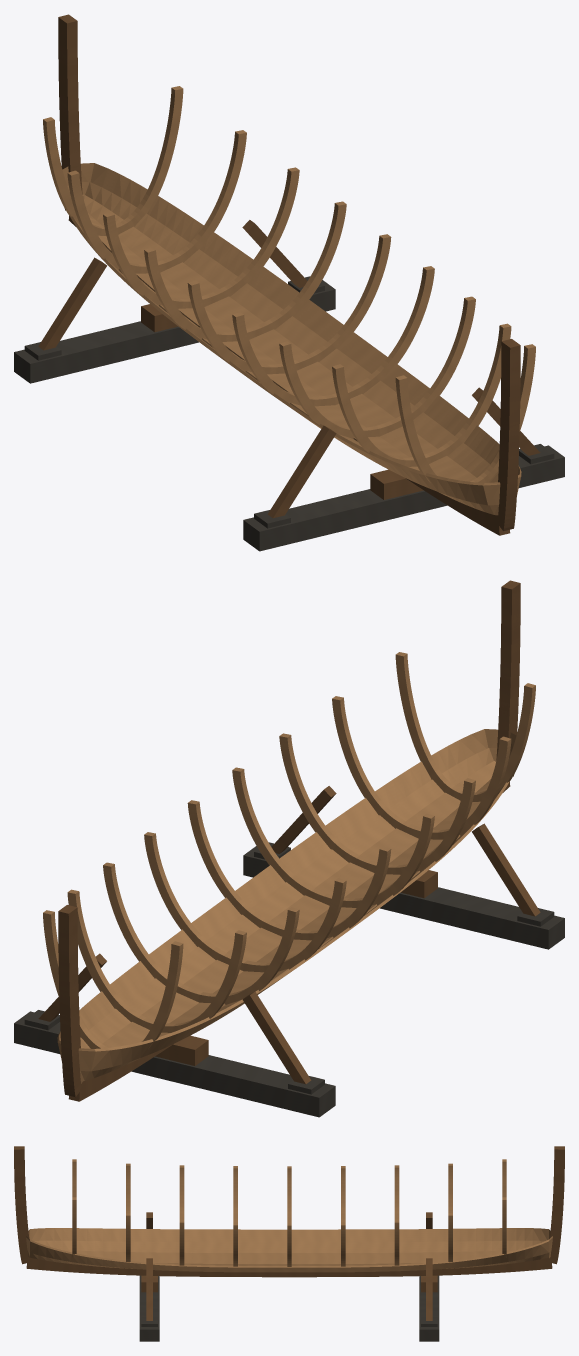
Rendered from stage_1.glb.
3 views of the same model, one above another, from view 1: azimuth 30°, elevation 25°; view 2: azimuth 150°, elevation 25°; view 3: azimuth 270°, elevation 25° (orthographic). The views are drawn at different scales.
Visible parts, largest first — view 1: hull_strake_02_starboard_0, hull_strake_01_starboard_0, hull_strake_00_starboard_0, trestle_1_foot, trestle_0_foot, spine_bow_stem, hull_strake_02_port_0, frame_05, frame_02, frame_03, frame_04, frame_06 (+12 smaller); view 2: hull_strake_02_starboard_0, hull_strake_01_starboard_0, hull_strake_00_starboard_0, trestle_0_foot, trestle_1_foot, spine_stern_stem, hull_strake_02_port_0, frame_03, frame_05, frame_06, frame_04, frame_02 (+12 smaller); view 3: hull_strake_02_port_0, hull_strake_01_port_0, hull_strake_02_starboard_0, hull_strake_00_port_0, spine_keel, spine_bow_stem, spine_stern_stem, trestle_0_foot, trestle_1_foot, frame_02, frame_06, hull_strake_01_starboard_0 (+10 smaller).
Boxes of the visible parts, box(x1,y1,x2,y2) form: hull_strake_02_starboard_0: box(81, 163, 521, 494); hull_strake_01_starboard_0: box(81, 182, 498, 482); hull_strake_00_starboard_0: box(82, 194, 476, 481); trestle_1_foot: box(243, 445, 564, 551); trestle_0_foot: box(14, 280, 335, 383); spine_bow_stem: box(495, 339, 520, 531); hull_strake_02_port_0: box(62, 166, 500, 505); frame_05: box(232, 266, 434, 406); frame_02: box(103, 167, 299, 308); frame_03: box(144, 201, 346, 341); frame_04: box(187, 234, 391, 374); frame_06: box(279, 296, 475, 438); hull_strake_02_starboard_0: box(57, 729, 497, 1060); hull_strake_01_starboard_0: box(80, 748, 497, 1048); hull_strake_00_starboard_0: box(102, 760, 496, 1047); trestle_0_foot: box(14, 1011, 335, 1117); trestle_1_foot: box(243, 846, 564, 949); spine_stern_stem: box(58, 905, 83, 1097); hull_strake_02_port_0: box(78, 732, 516, 1071); frame_03: box(144, 832, 346, 972); frame_05: box(232, 767, 434, 907); frame_06: box(279, 733, 475, 874); frame_04: box(187, 800, 391, 940); frame_02: box(103, 862, 299, 1004); hull_strake_02_port_0: box(28, 1228, 550, 1242); hull_strake_01_port_0: box(34, 1240, 544, 1252); hull_strake_02_starboard_0: box(26, 1236, 552, 1272); hull_strake_00_port_0: box(64, 1250, 514, 1263); spine_keel: box(26, 1257, 552, 1277); spine_bow_stem: box(14, 1146, 32, 1264); spine_stern_stem: box(546, 1146, 564, 1264); trestle_0_foot: box(419, 1275, 439, 1341); trestle_1_foot: box(139, 1275, 159, 1341); frame_02: box(394, 1165, 399, 1265); frame_06: box(179, 1165, 184, 1265); hull_strake_01_starboard_0: box(27, 1251, 551, 1268).
Bounding box in the file's own units: 2.6 × 1.98 × 6.66.
6 materials, 6 textured.
